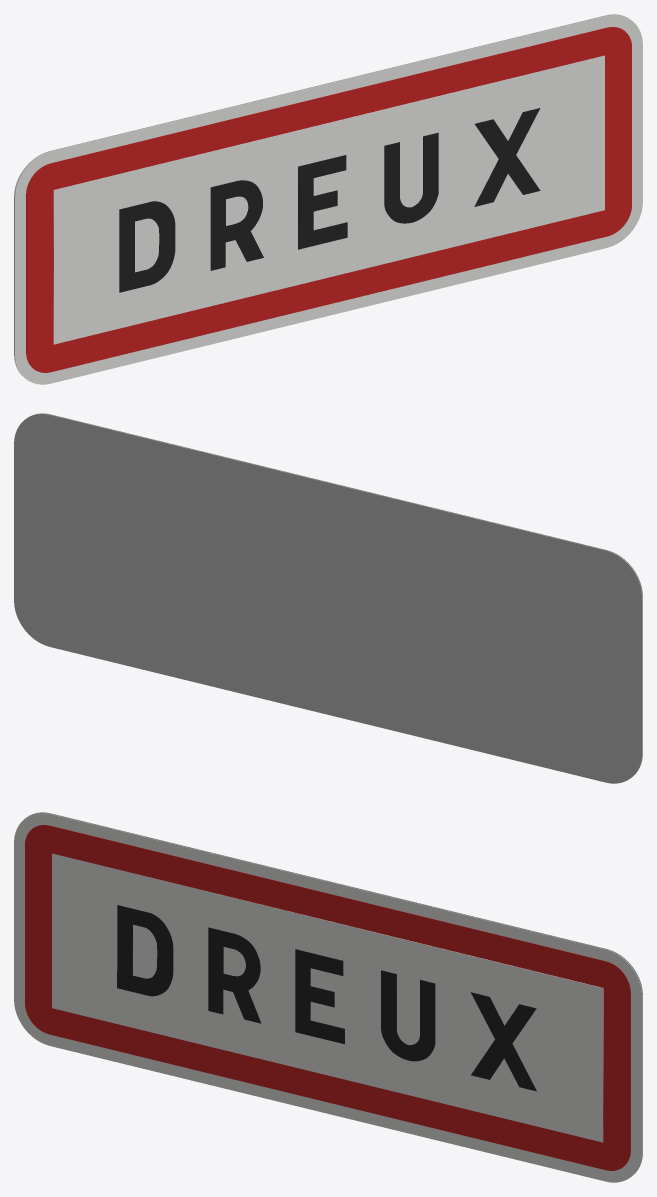
The picture shows the model from 3 angles, top to bottom: view 1: azimuth 30°, elevation 25°; view 2: azimuth 150°, elevation 25°; view 3: azimuth 330°, elevation 25°; orthographic projection.
Parts seen in each view (by area): view 1: EB10_p02, EB10_p01, EB10_p00, EB10_p03, EB10_p04, EB10_p07, EB10_p06, EB10_p05, EB10_dos; view 2: EB10_dos, EB10_p00; view 3: EB10_p02, EB10_p01, EB10_p00, EB10_p03, EB10_p04, EB10_p07, EB10_p06, EB10_p05, EB10_dos.
Boxes of the visible parts, x1,y1,x2,y2 form: EB10_p02: (53,55,604,344); EB10_p01: (26,27,631,372); EB10_p00: (14,15,642,384); EB10_p03: (119,201,175,292); EB10_p04: (210,180,263,270); EB10_p07: (474,108,540,206); EB10_p06: (384,132,438,223); EB10_p05: (298,155,347,249); EB10_dos: (14,14,627,375); EB10_dos: (14,414,642,783); EB10_p00: (29,413,642,774); EB10_p02: (52,853,603,1142); EB10_p01: (25,825,630,1170); EB10_p00: (14,813,642,1182); EB10_p03: (117,905,173,996); EB10_p04: (208,927,261,1023); EB10_p07: (471,992,536,1091); EB10_p06: (381,970,435,1061); EB10_p05: (295,949,344,1044); EB10_dos: (29,812,642,1173).
Bounding box in the file's own units: 0.7 × 0.2471 × 0.0047.
